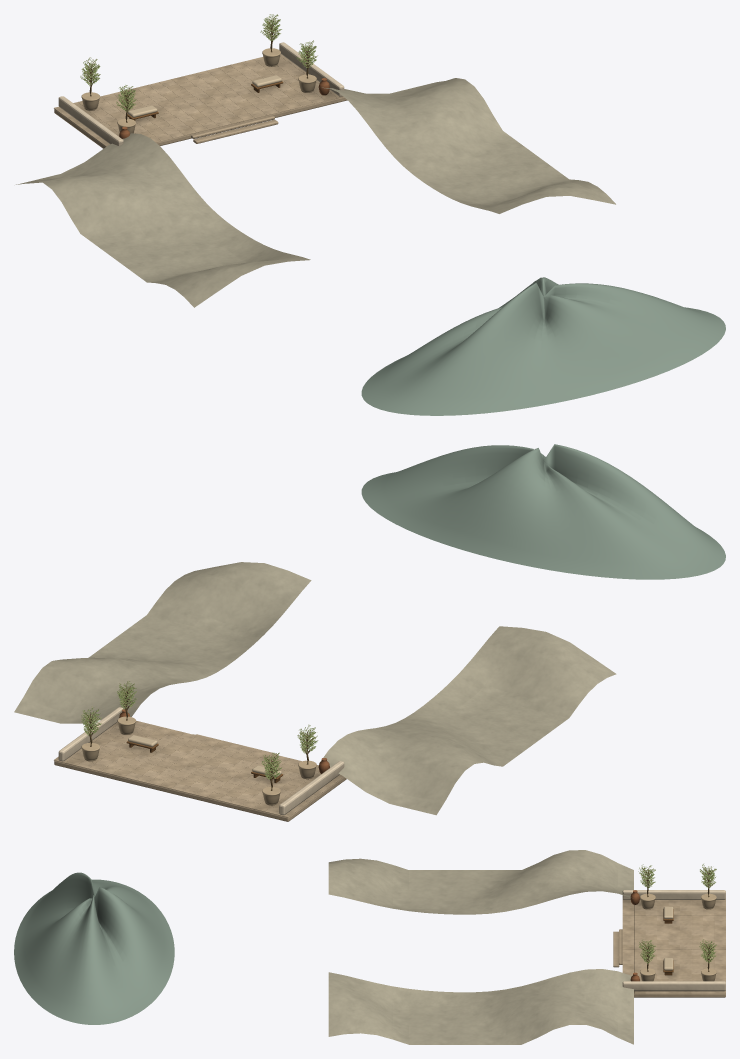
Rendered from outside.glb.
The picture shows the model from 3 angles, top to bottom: view 1: azimuth 30°, elevation 25°; view 2: azimuth 150°, elevation 25°; view 3: azimuth 270°, elevation 25°; orthographic projection. The views are drawn at different scales.
Parts seen in each view (by area): view 1: Architecture · Coastal limestone, Architecture · Distant warm island, Architecture · Sand travertine 3, Architecture · Sand travertine 2, Architecture · Sand travertine 0, Architecture · Sand travertine 1, Architecture · Warm travertine base, Architecture · Sand lime plaster, Architecture · Travertine planter, Architecture · Olive leaves 0, Architecture · Olive leaves 2, Architecture · Olive leaves 1; view 2: Architecture · Coastal limestone, Architecture · Distant warm island, Architecture · Sand travertine 1, Architecture · Sand travertine 2, Architecture · Sand travertine 0, Architecture · Sand travertine 3, Architecture · Sand lime plaster, Architecture · Warm travertine base, Architecture · Travertine planter, Architecture · Olive leaves 0, Architecture · Olive leaves 1, Architecture · Olive leaves 2 (+1 smaller); view 3: Architecture · Coastal limestone, Architecture · Distant warm island, Architecture · Sand travertine 3, Architecture · Sand travertine 1, Architecture · Sand travertine 0, Architecture · Sand travertine 2, Architecture · Sand lime plaster, Architecture · Warm travertine base, Architecture · Travertine planter, Architecture · Olive leaves 0, Architecture · Olive leaves 2, Architecture · Olive leaves 1 (+1 smaller).
Boxes of the visible parts, x1=… form: Architecture · Coastal limestone: x1=16, y1=78, x2=615, y2=307; Architecture · Distant warm island: x1=361, y1=277, x2=725, y2=415; Architecture · Sand travertine 3: x1=61, y1=57, x2=330, y2=138; Architecture · Sand travertine 2: x1=54, y1=58, x2=319, y2=141; Architecture · Sand travertine 0: x1=67, y1=56, x2=337, y2=142; Architecture · Sand travertine 1: x1=74, y1=54, x2=343, y2=146; Architecture · Warm travertine base: x1=54, y1=97, x2=347, y2=148; Architecture · Sand lime plaster: x1=58, y1=42, x2=344, y2=145; Architecture · Travertine planter: x1=81, y1=48, x2=316, y2=133; Architecture · Olive leaves 0: x1=80, y1=15, x2=316, y2=111; Architecture · Olive leaves 2: x1=81, y1=14, x2=316, y2=110; Architecture · Olive leaves 1: x1=80, y1=14, x2=317, y2=110; Architecture · Coastal limestone: x1=14, y1=562, x2=616, y2=815; Architecture · Distant warm island: x1=361, y1=444, x2=725, y2=579; Architecture · Sand travertine 1: x1=54, y1=722, x2=342, y2=808; Architecture · Sand travertine 2: x1=70, y1=724, x2=343, y2=817; Architecture · Sand travertine 0: x1=65, y1=720, x2=335, y2=811; Architecture · Sand travertine 3: x1=76, y1=721, x2=328, y2=814; Architecture · Sand lime plaster: x1=58, y1=707, x2=344, y2=815; Architecture · Warm travertine base: x1=54, y1=734, x2=346, y2=821; Architecture · Travertine planter: x1=81, y1=716, x2=316, y2=805; Architecture · Olive leaves 0: x1=81, y1=681, x2=317, y2=779; Architecture · Olive leaves 1: x1=82, y1=681, x2=317, y2=778; Architecture · Olive leaves 2: x1=82, y1=681, x2=318, y2=778; Architecture · Coastal limestone: x1=328, y1=850, x2=633, y2=1044; Architecture · Distant warm island: x1=14, y1=872, x2=174, y2=1024; Architecture · Sand travertine 3: x1=622, y1=900, x2=725, y2=993; Architecture · Sand travertine 1: x1=622, y1=900, x2=725, y2=993; Architecture · Sand travertine 0: x1=622, y1=900, x2=725, y2=993; Architecture · Sand travertine 2: x1=622, y1=899, x2=725, y2=993; Architecture · Sand lime plaster: x1=622, y1=890, x2=725, y2=991; Architecture · Warm travertine base: x1=613, y1=906, x2=725, y2=997; Architecture · Travertine planter: x1=640, y1=893, x2=716, y2=981; Architecture · Olive leaves 0: x1=638, y1=864, x2=716, y2=963; Architecture · Olive leaves 2: x1=639, y1=864, x2=716, y2=962; Architecture · Olive leaves 1: x1=639, y1=864, x2=716, y2=962.
Size of the model in its own units: 36 by 7.13 by 62.
17 materials, 10 textured.
